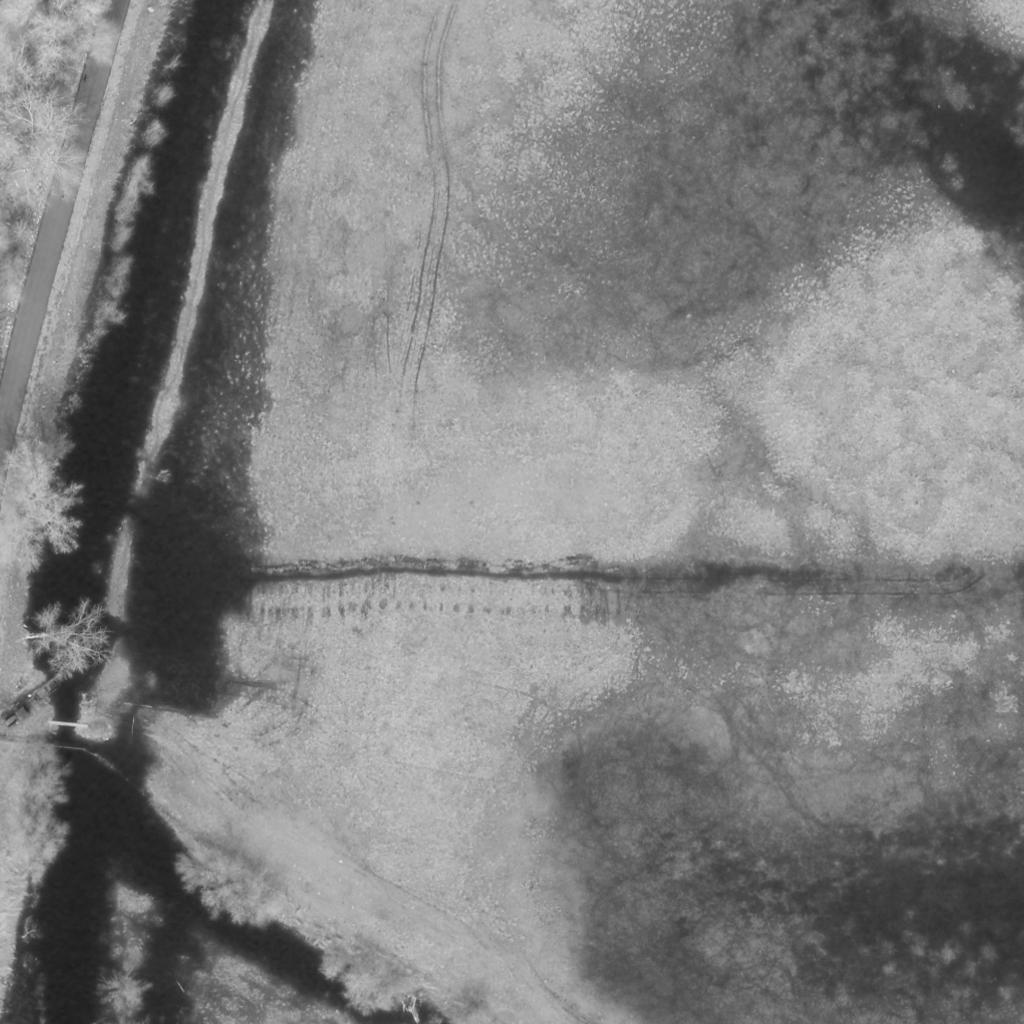vehicle: (1, 703, 31, 731)
